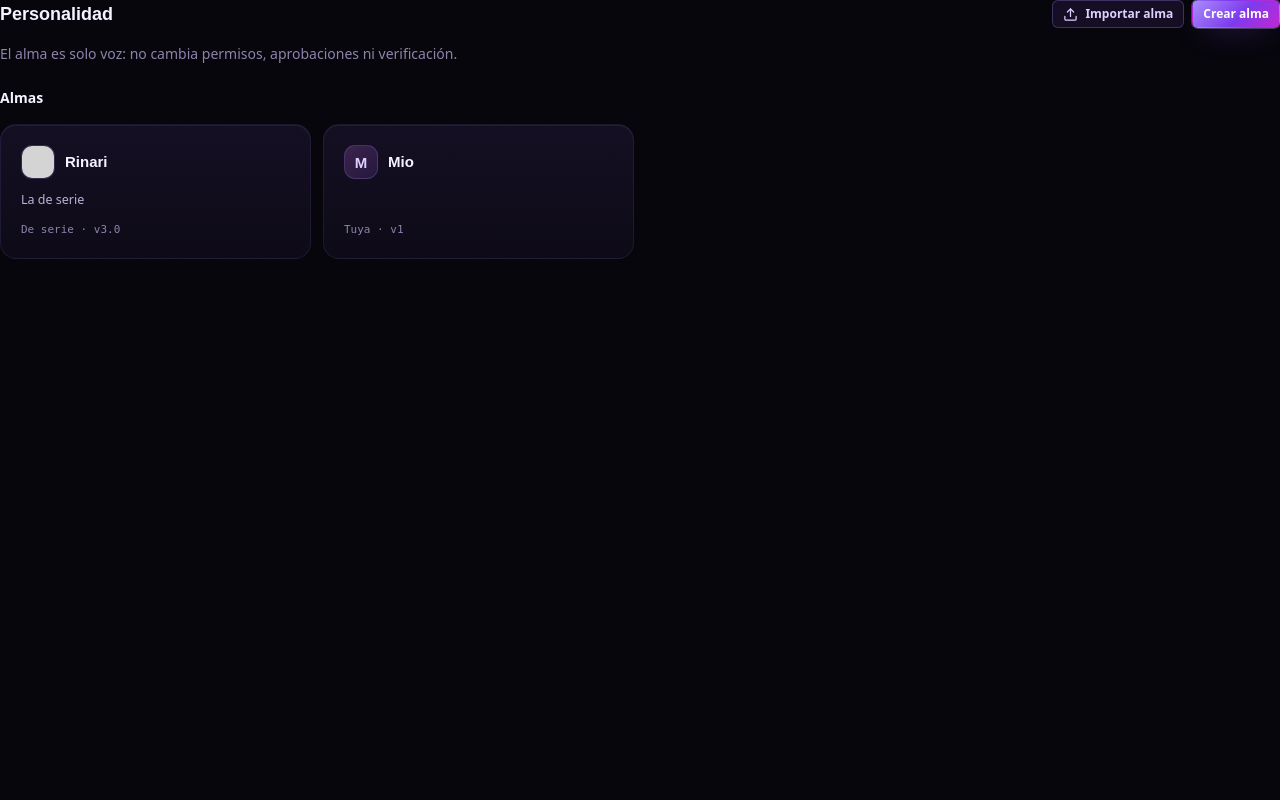
importing takes the picked files and opens the new soul
Click the button with test id "soul-import" at (1118, 14), box [1052, 0, 1184, 28]
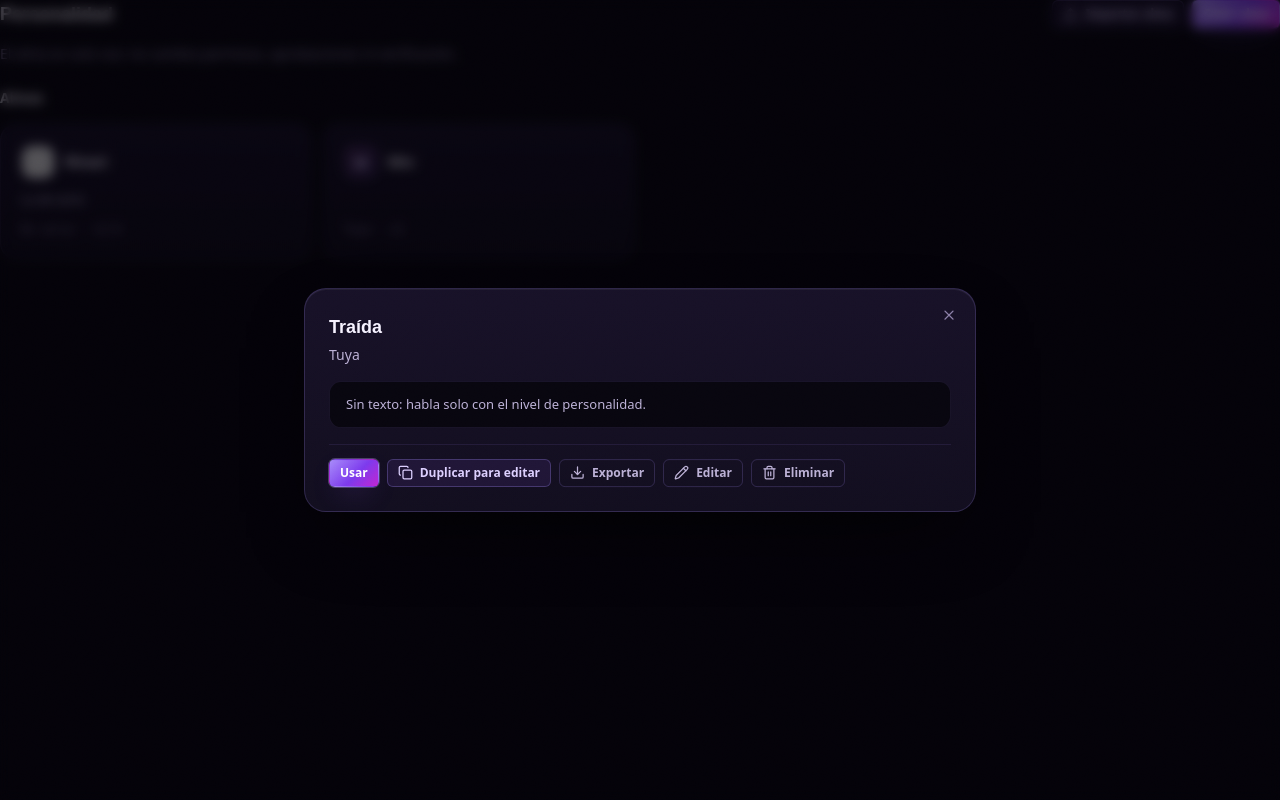
Now the dialog with test id "soul-panel" shows "Traída", box [329, 317, 382, 337]
